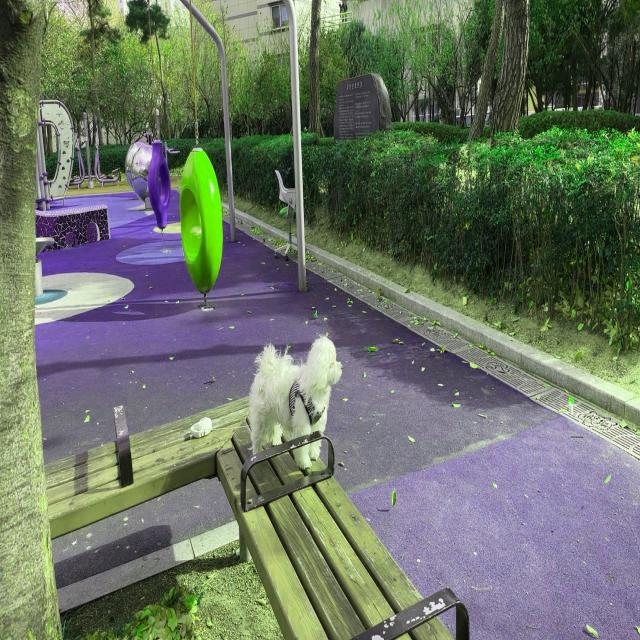Dog: (248, 339, 343, 468)
